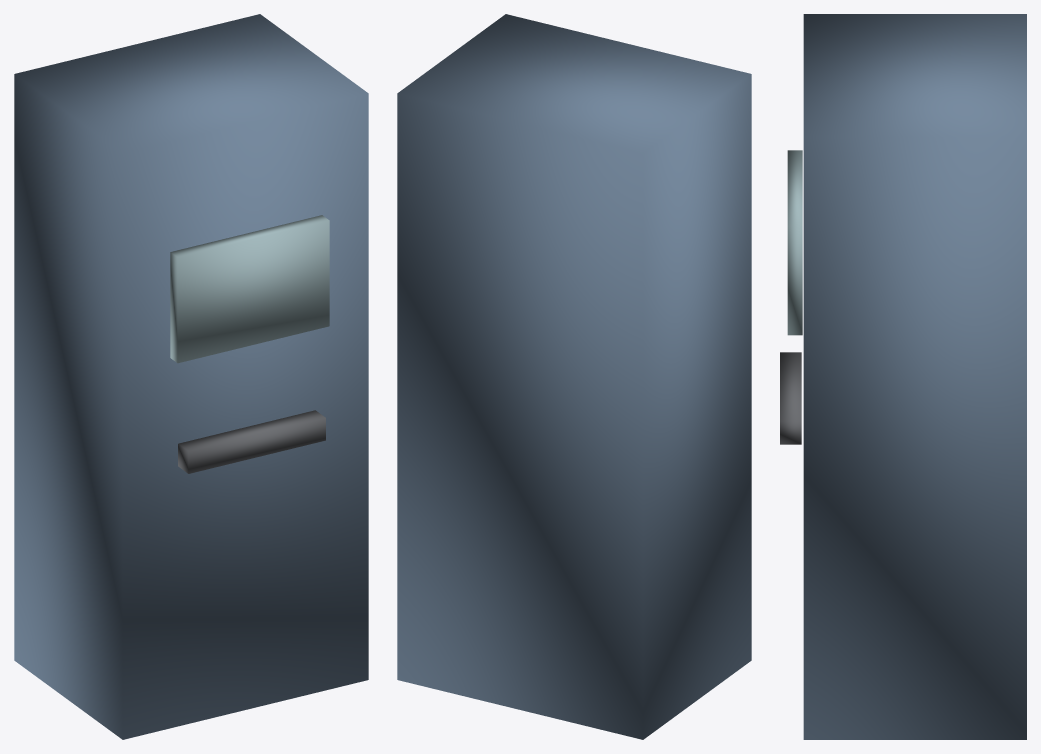
The model's file is information_kiosk.glb.
3 renders of one model, left to right at view 1: azimuth 30°, elevation 25°; view 2: azimuth 150°, elevation 25°; view 3: azimuth 270°, elevation 25°, orthographic. The views are drawn at different scales.
Parts seen in each view (by area): view 1: world; view 2: world; view 3: world.
Part boxes in pixels (bbox=[...]): world: bbox=[14, 14, 368, 739]; world: bbox=[397, 14, 751, 739]; world: bbox=[780, 14, 1026, 739].
Size of the model in its own units: 0.68 by 1.55 by 0.575.
